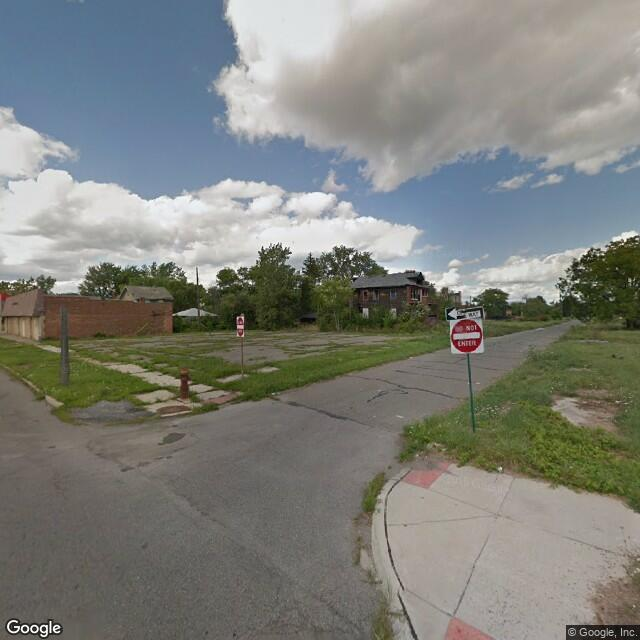litter: (478, 403, 499, 416), (631, 556, 640, 576), (495, 463, 507, 473), (428, 441, 447, 447), (405, 356, 417, 362), (615, 398, 628, 403), (413, 452, 422, 458), (270, 393, 282, 397)
